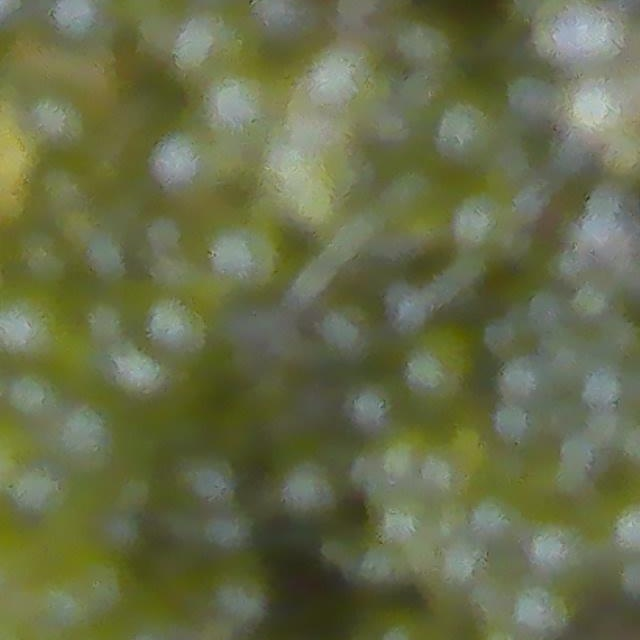SeaGrape: (198, 54, 295, 149), (399, 319, 483, 415), (45, 395, 133, 482), (148, 123, 236, 206), (0, 276, 78, 369), (142, 292, 212, 366), (270, 454, 343, 524), (435, 92, 502, 164), (170, 446, 239, 513), (248, 0, 325, 56), (13, 224, 77, 290), (46, 0, 120, 50), (3, 365, 62, 422), (507, 72, 556, 123)
